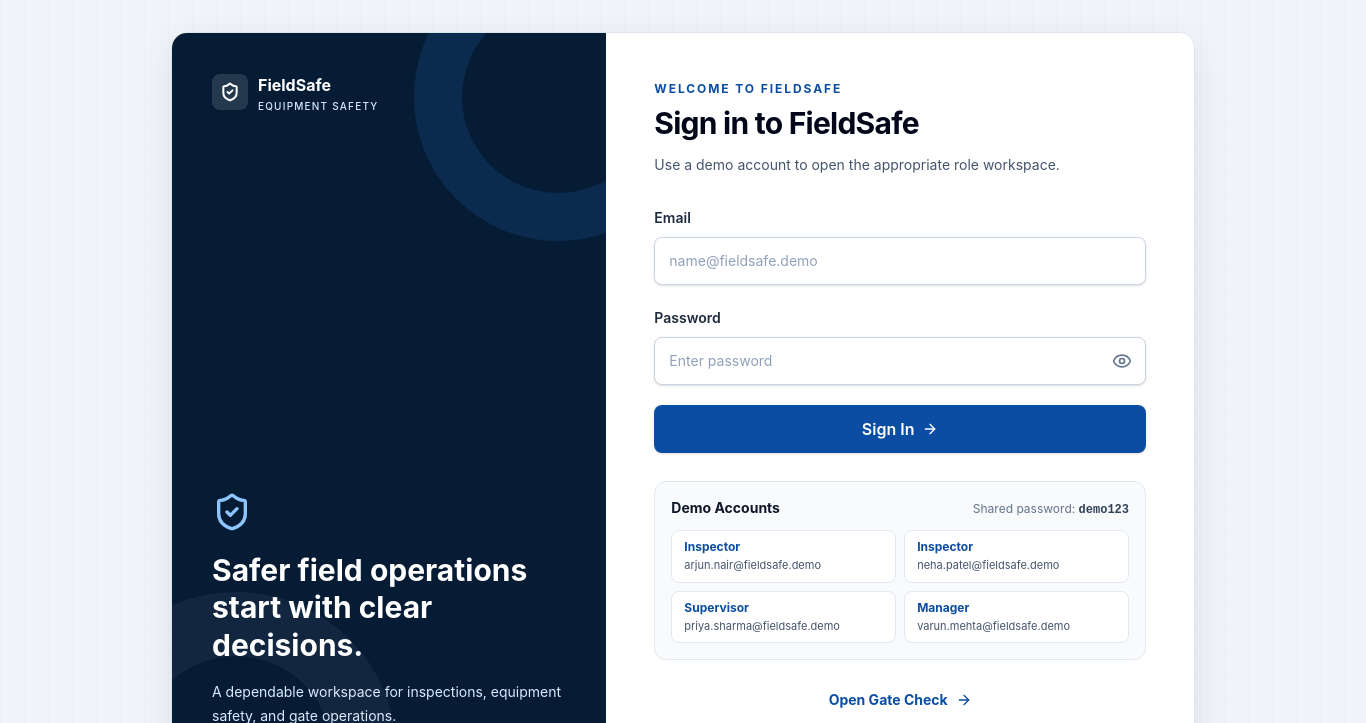
Test case: TASK-029 Pass B product hardening › links between Login and the public Gate without connectivity claims
Click the link "Open Gate Check" at (900, 700), box [829,691,972,708]
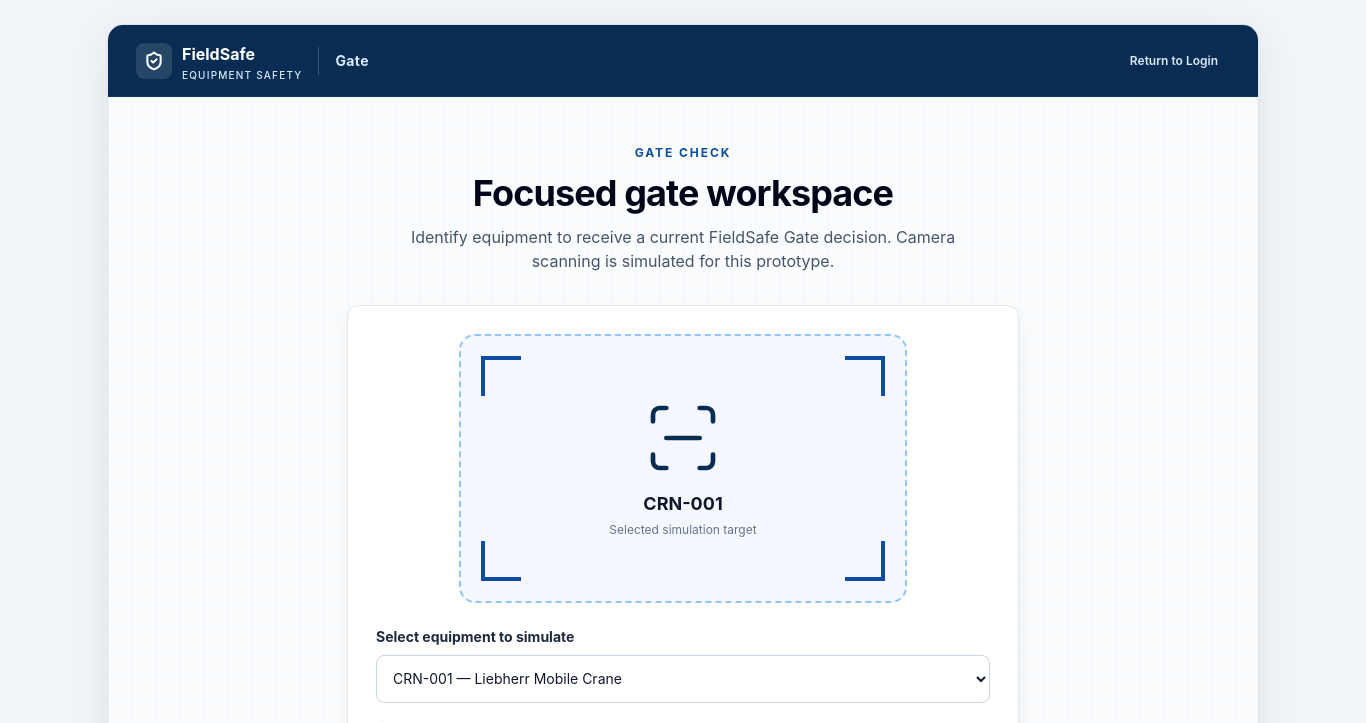
Result: the link "Return to Login" is shown at [1130,52,1218,68]
